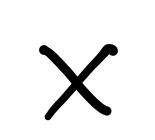mult: (39, 44, 118, 120)
